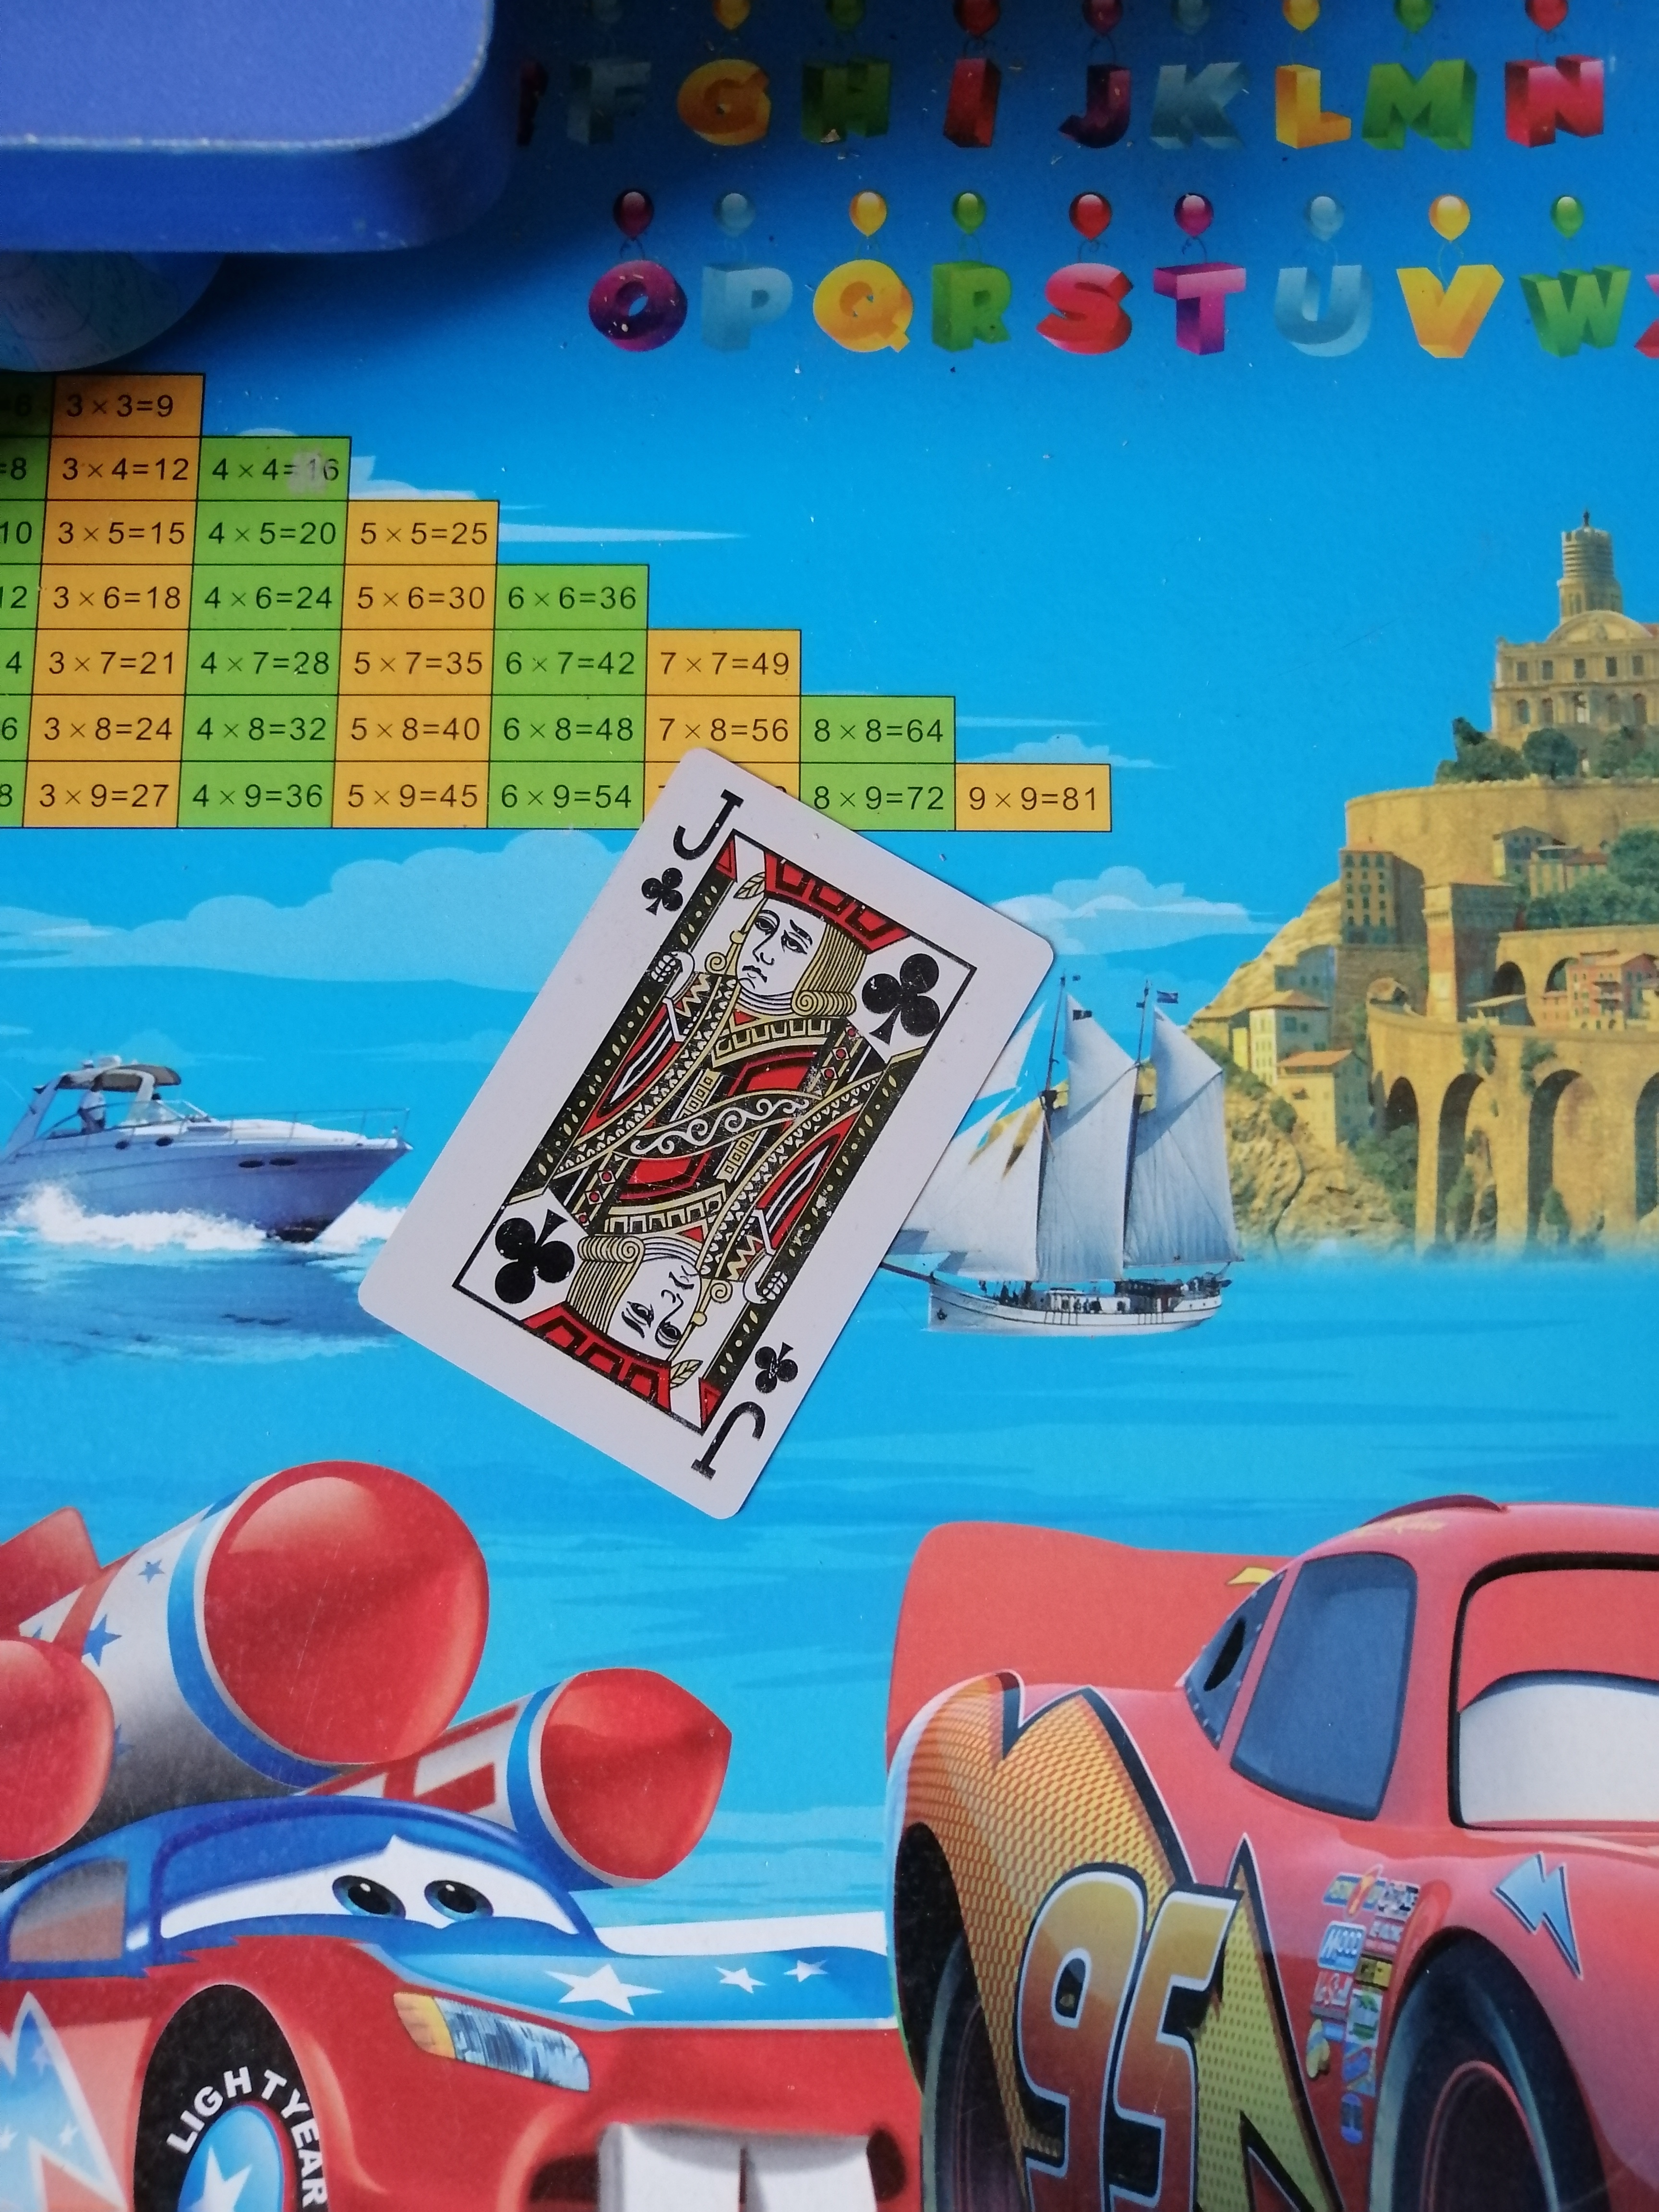jack: (380, 765, 997, 1474)
